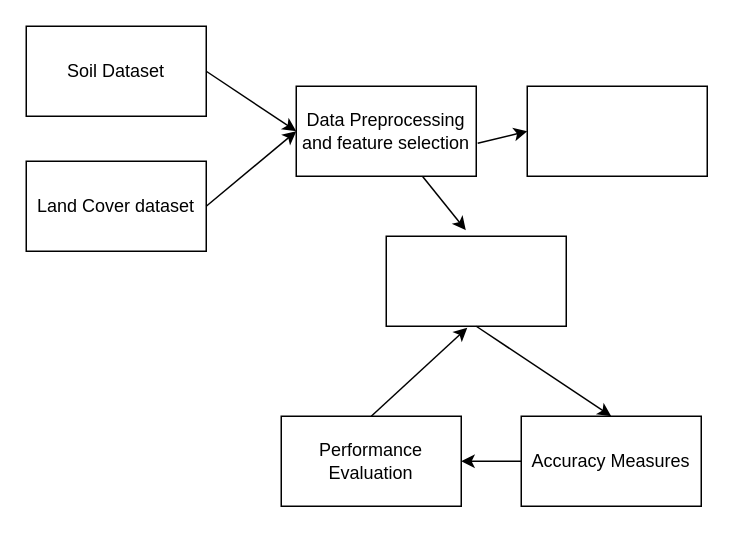
Image size: 734x533. Some labels were removed from this diagram. The centre of each missing label's shape, as x and y in pixels:
"Classifier" goes at pixel 475 280.
"Visualization" goes at pixel 616 130.
